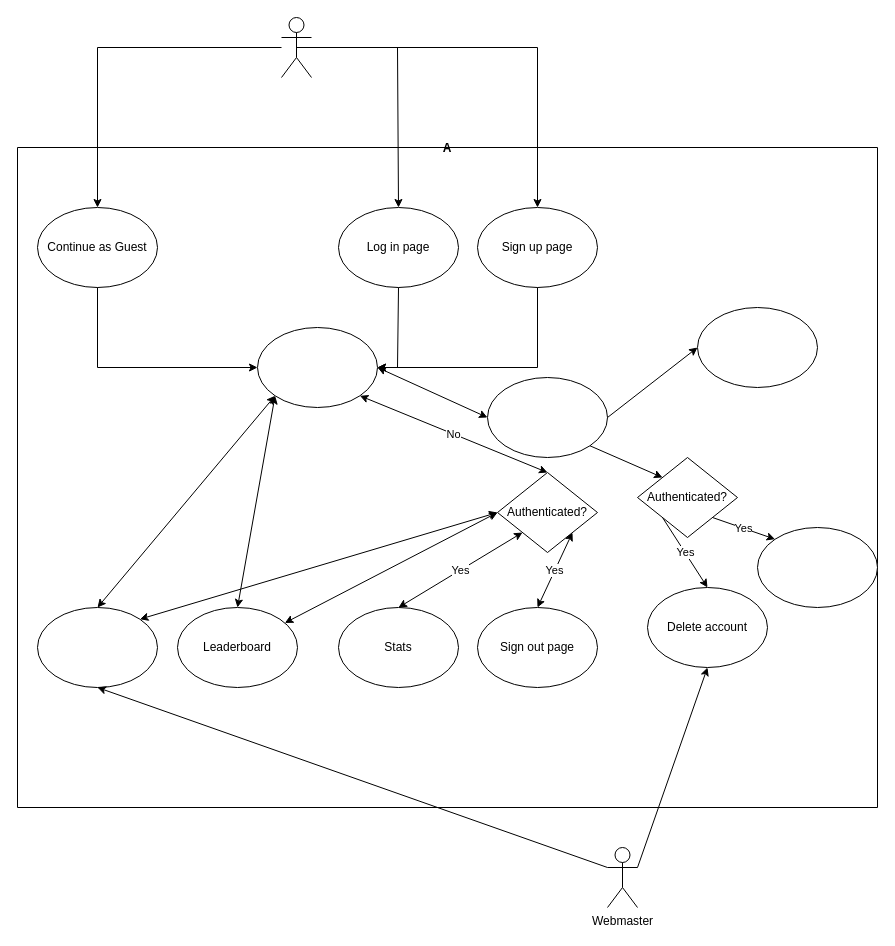
The diagram is 895 pixels wide and 946 high, and some of its shapes have lost their labels. Each missing label, with the centre of its shape:
Change user data: point 817,567
Home Page: point 317,367
Settings page: point 547,417
Theme change: point 757,347
User: point 296,47
Website activities: point 97,647
